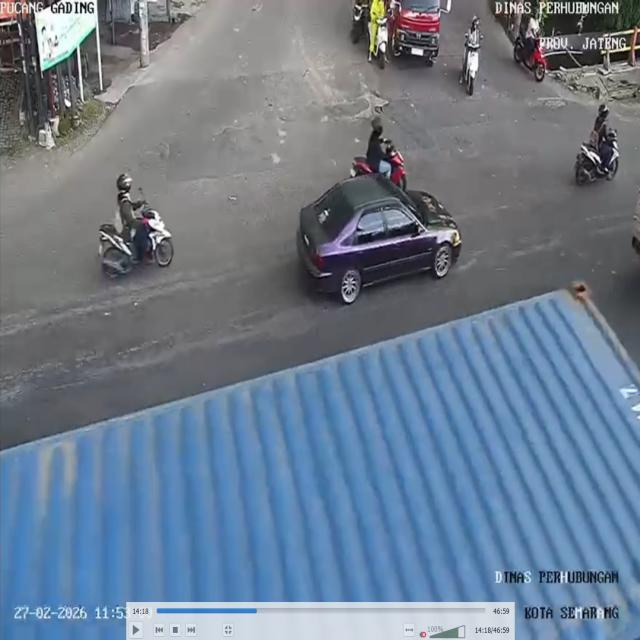motorcycle: (96, 218, 178, 281), (349, 147, 412, 195), (572, 134, 622, 186), (511, 36, 549, 89), (462, 44, 482, 96), (374, 24, 392, 66), (352, 7, 363, 45)
person: (111, 170, 145, 236), (365, 109, 392, 176), (592, 96, 613, 152), (528, 8, 544, 51), (466, 12, 484, 49), (517, 8, 531, 37), (371, 0, 390, 20)
rider_region: (96, 170, 179, 281), (350, 114, 409, 191), (576, 99, 622, 185), (512, 7, 548, 84), (462, 14, 485, 99), (368, 0, 392, 68)
